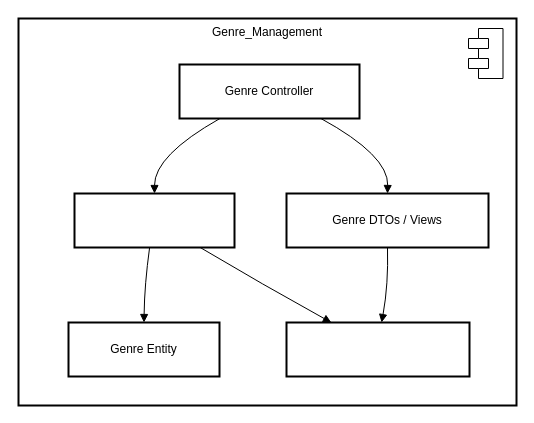
This 534x423 diagram has some shape labels left out. Here are the shapes that lost their labels. From the top down, the centre of each, then its label:
the point at 154,220: Genre Service
the point at 377,349: Genre Repository
